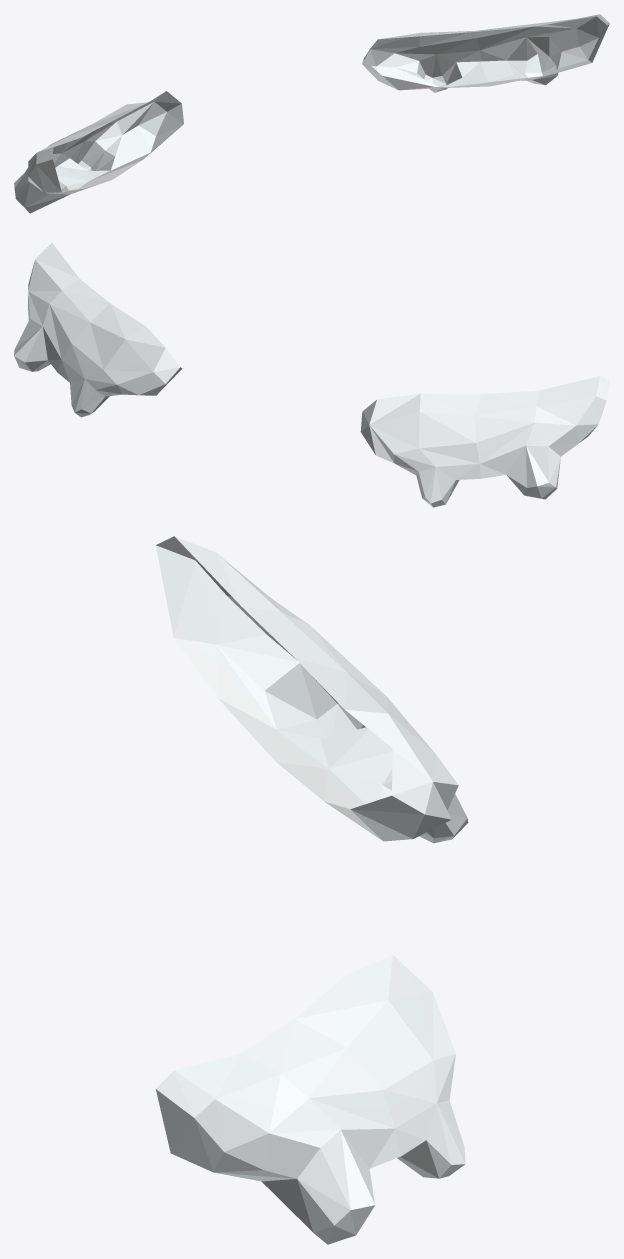
File: CharSkyKid_Mask_ChildrenWhiteEyelash.glb
3 renders of one model, top to bottom at view 1: azimuth 30°, elevation 25°; view 2: azimuth 150°, elevation 25°; view 3: azimuth 270°, elevation 25°, orthographic. The views are drawn at different scales.
Parts seen in each view (by area): view 1: CharSkyKid_Mask_ChildrenWhiteEyelash; view 2: CharSkyKid_Mask_ChildrenWhiteEyelash; view 3: CharSkyKid_Mask_ChildrenWhiteEyelash.
Part boxes in pixels (x1=…): CharSkyKid_Mask_ChildrenWhiteEyelash: x1=14, y1=14, x2=609, y2=213; CharSkyKid_Mask_ChildrenWhiteEyelash: x1=14, y1=242, x2=609, y2=507; CharSkyKid_Mask_ChildrenWhiteEyelash: x1=155, y1=536, x2=468, y2=1244.
Bounding box in the file's own units: 1.4 × 0.2439 × 0.3311.
Materials: 1 (1 with a texture image).
